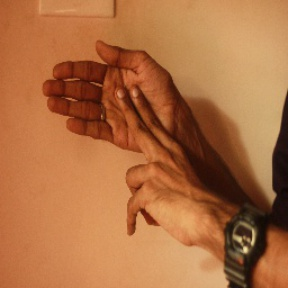N: (37, 38, 197, 223)
